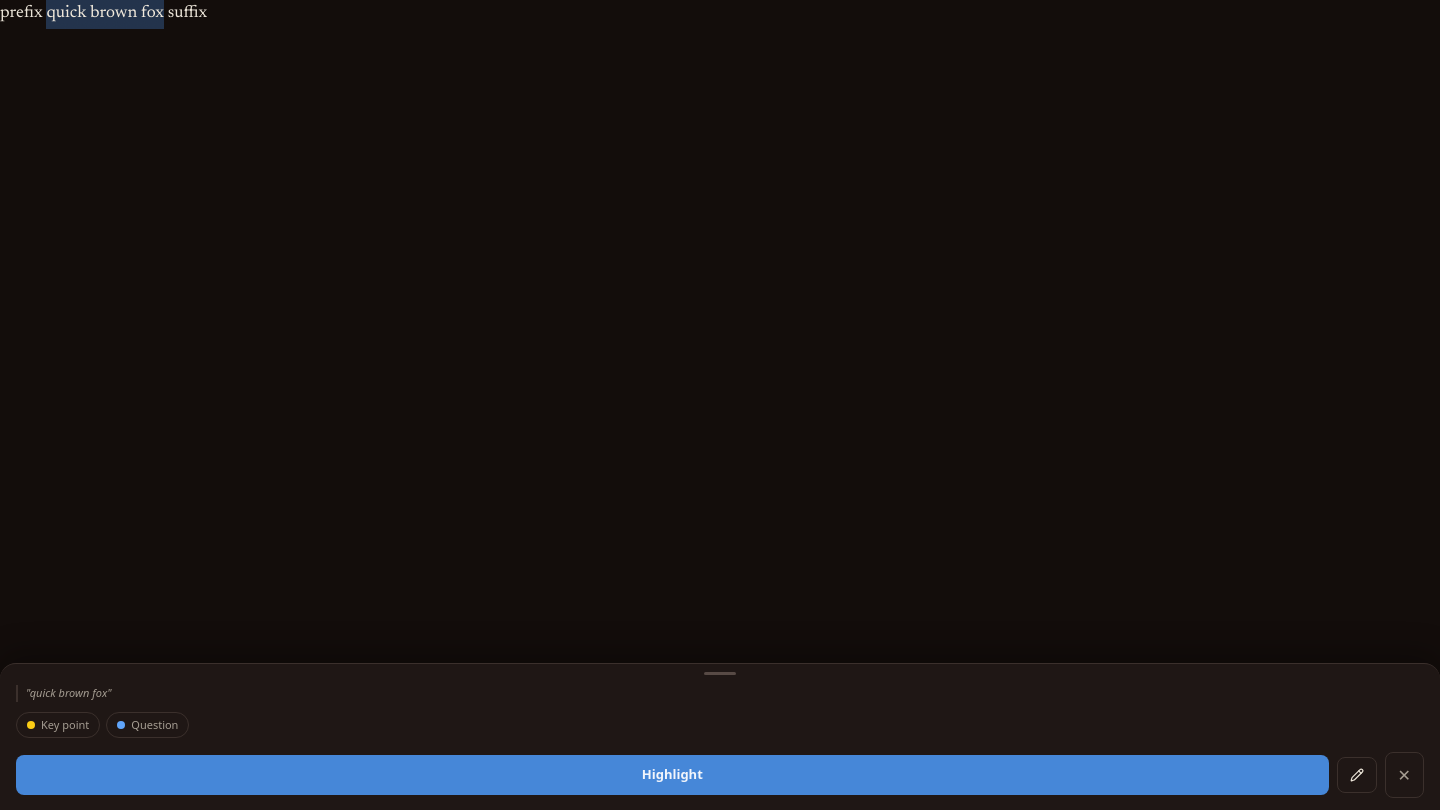
Test: MobileAnnotationSheet — note mode › tapping pencil reveals note input and Save button
Expected: the dialog named "annotate" is shown, [0,663,1439,809]
Click the button named "add note".
click(1357, 775)  # box [1337,757,1377,793]
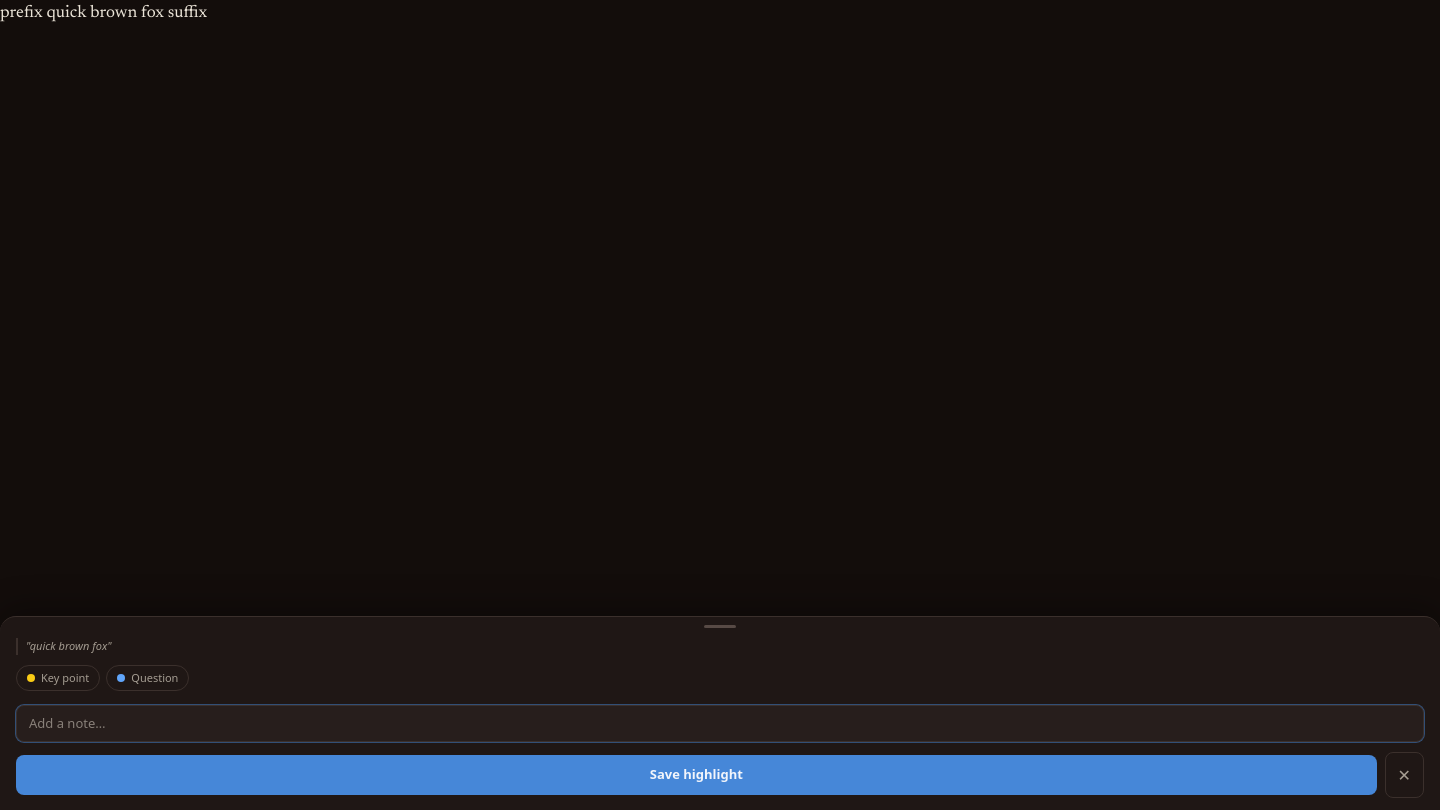
Result: the field with placeholder "Add a note…" is shown at [16,704,1424,742]
Result: the button "Save highlight" is shown at [16,755,1377,795]
